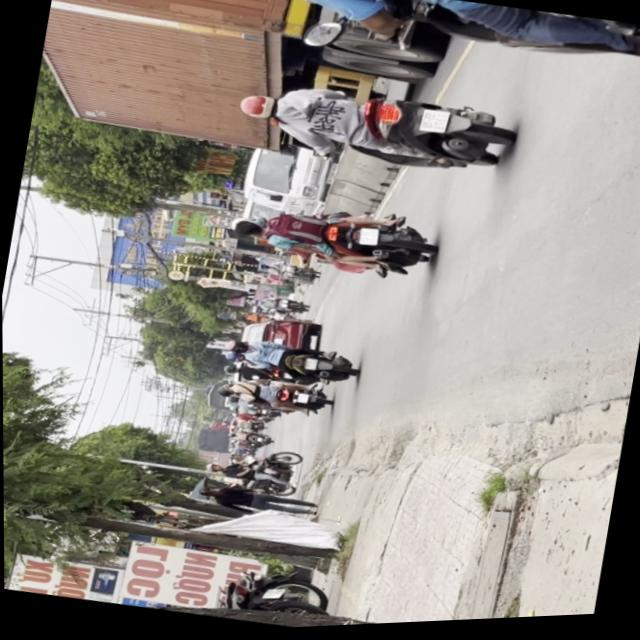helmet: (235, 91, 279, 124)
licenseplate: (228, 62, 518, 194), (221, 186, 439, 293)
motorcyclist: (229, 217, 265, 240)
nohelmet: (419, 109, 450, 137), (357, 228, 379, 249)
